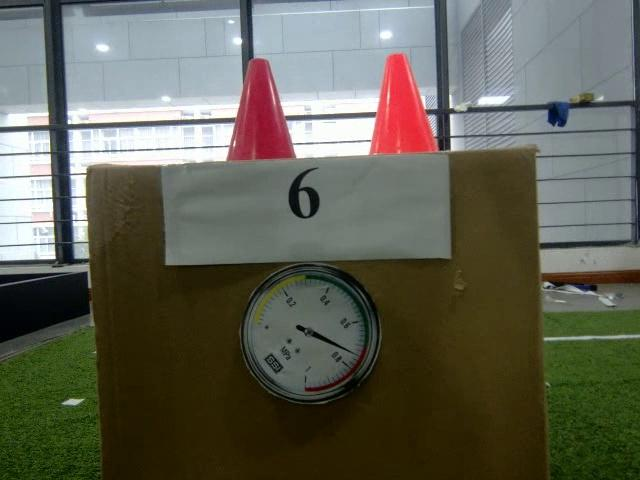6: (288, 165, 325, 220)
Dashboard: (238, 264, 383, 408)
orange_barrel: (365, 53, 437, 155)
red_barrel: (224, 54, 298, 162)
ssi: (263, 350, 283, 374)
